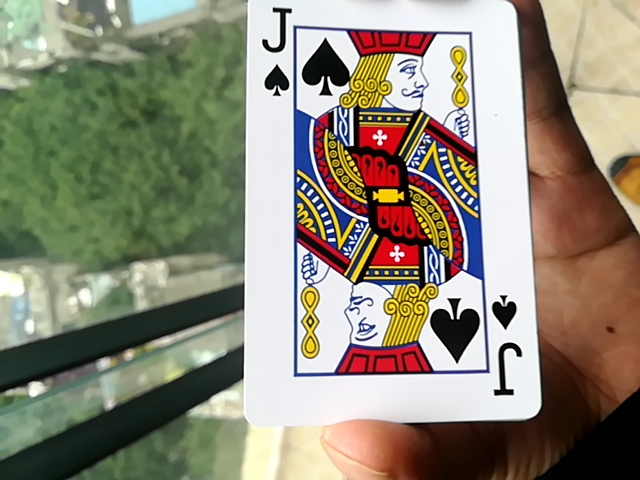ht j: (232, 0, 534, 425)
